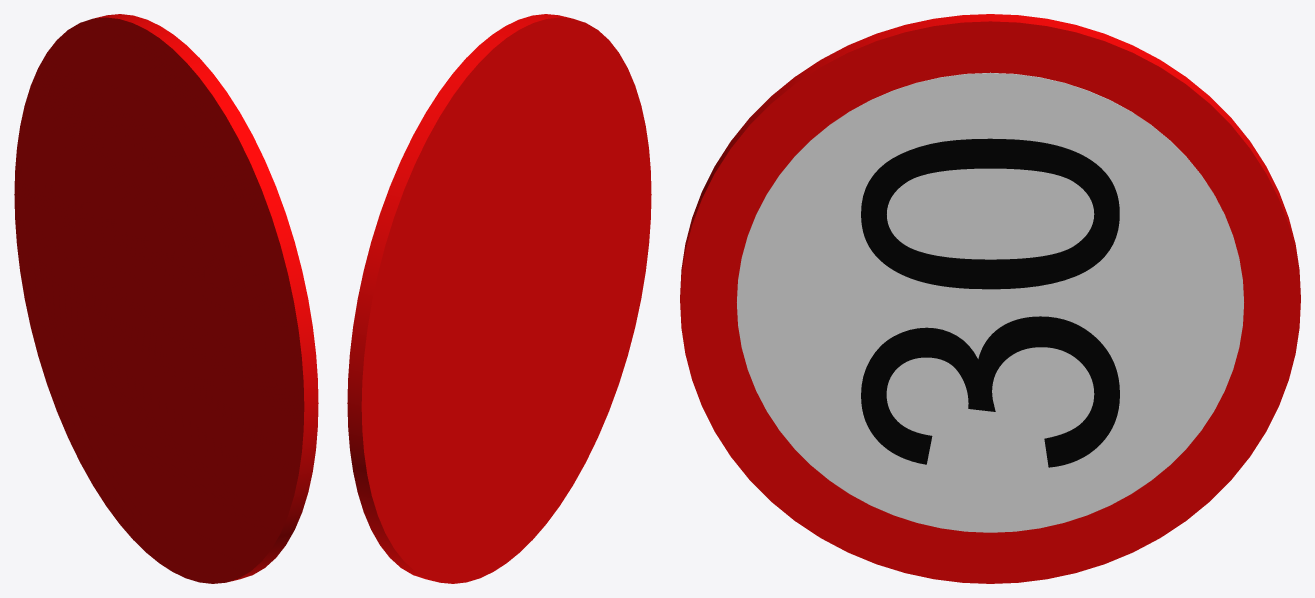
The picture shows the model from 3 angles, left to right: view 1: azimuth 30°, elevation 25°; view 2: azimuth 150°, elevation 25°; view 3: azimuth 270°, elevation 25°; orthographic projection. The views are drawn at different scales.
Parts seen in each view (by area): view 1: 限速30; view 2: 限速30; view 3: 限速30.
Boxes of the visible parts, box(x1,y1,x2,y2) form: 限速30: box(14, 14, 318, 583); 限速30: box(347, 14, 651, 583); 限速30: box(680, 14, 1300, 583).
Bounding box in the file's own units: 0.0249 × 0.7737 × 0.7737.
